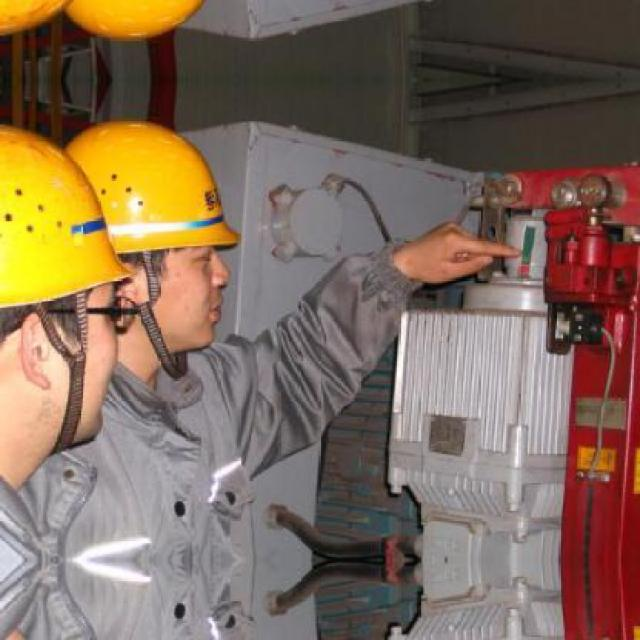Reflective-Jacket: (26, 326, 319, 640)
Safety-Helmet: (55, 111, 251, 266), (0, 118, 131, 322)
